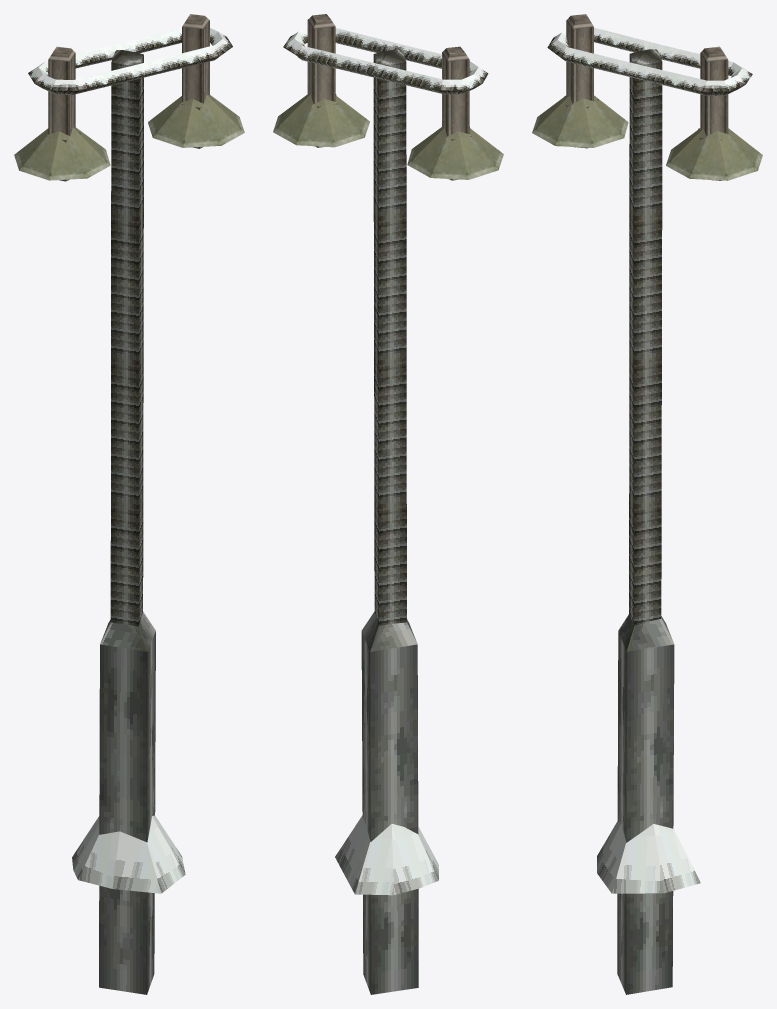
File: C1SMWFPOLELAMPH.obj
3 renders of one model, left to right at view 1: azimuth 30°, elevation 25°; view 2: azimuth 150°, elevation 25°; view 3: azimuth 330°, elevation 25°, orthographic.
Parts seen in each view (by area): view 1: Node 0; view 2: Node 0; view 3: Node 0.
Part boxes in pixels (<box>): Node 0: <box>14,14,244,994</box>; Node 0: <box>273,14,503,994</box>; Node 0: <box>532,14,762,994</box>.
Size of the model in its own units: 4.09 by 16.77 by 2.19.
5 materials, 5 textured.
